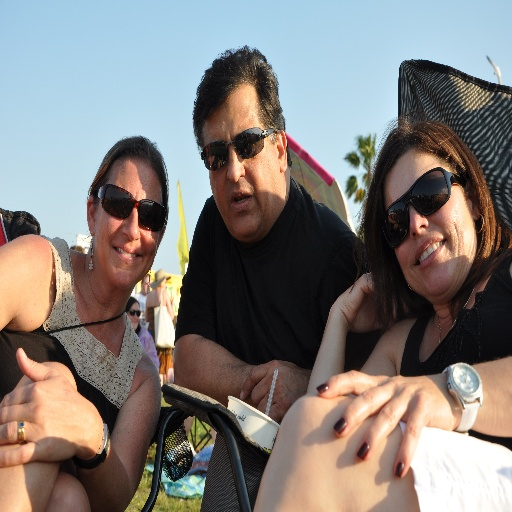hand: (314, 368, 457, 477), (2, 349, 101, 474), (240, 358, 312, 427), (333, 268, 409, 333)
